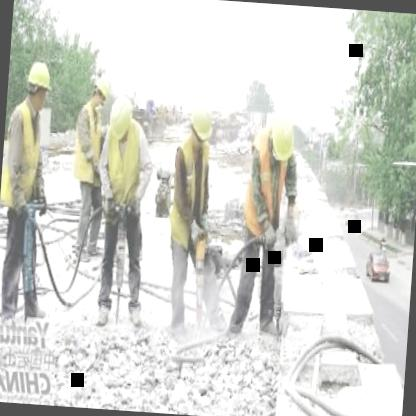helmet: (262, 108, 302, 170), (184, 96, 216, 152), (23, 57, 54, 113), (106, 91, 134, 148), (89, 70, 112, 110)
